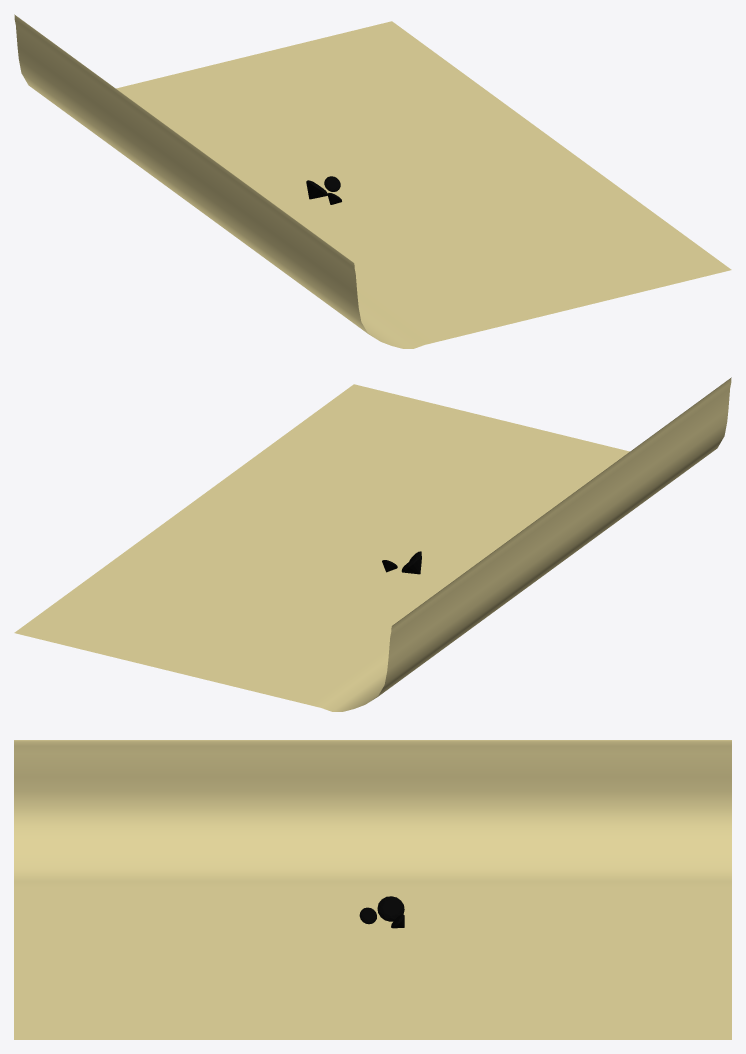
Rendered from diamond_1.obj.
3 renders of one model, top to bottom at view 1: azimuth 30°, elevation 25°; view 2: azimuth 150°, elevation 25°; view 3: azimuth 270°, elevation 25°, orthographic. The views are drawn at different scales.
Parts seen in each view (by area): view 1: Plane01; view 2: Plane01; view 3: Plane01, diamant_2.
Part boxes in pixels (box(x1,y1,x2,y2)): Plane01: box(14, 14, 731, 348); Plane01: box(14, 377, 731, 711); Plane01: box(14, 740, 731, 1039); diamant_2: box(377, 896, 404, 921).
Size of the model in its own units: 418 by 106 by 651.
